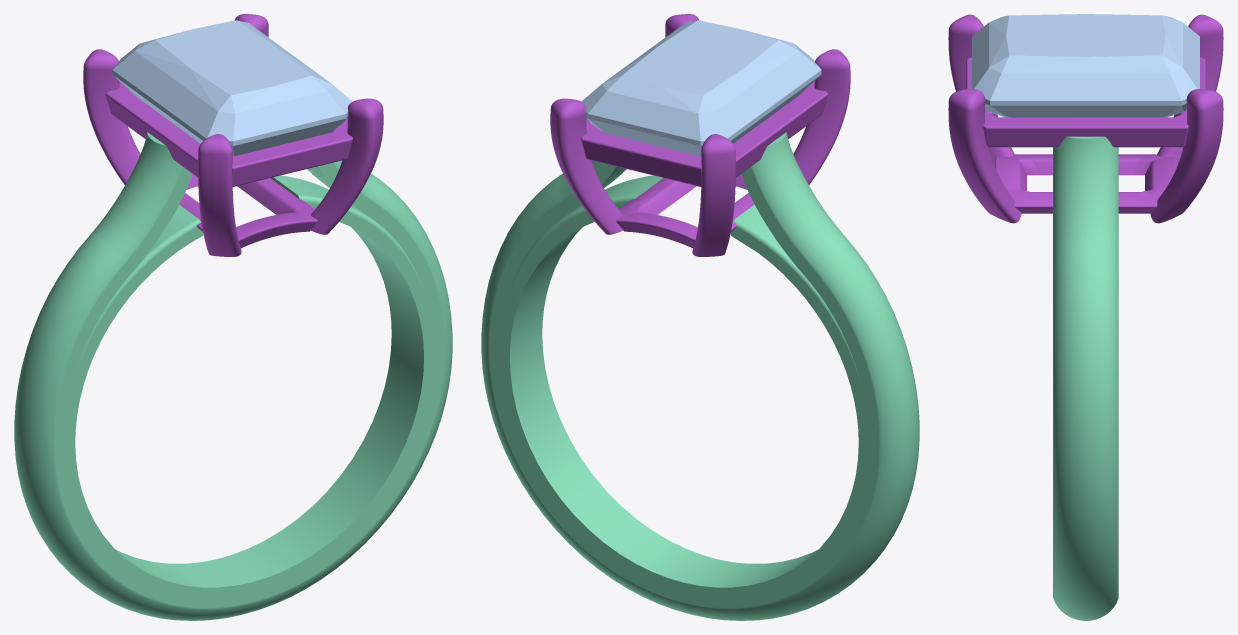
The picture shows the model from 3 angles, left to right: view 1: azimuth 30°, elevation 25°; view 2: azimuth 150°, elevation 25°; view 3: azimuth 270°, elevation 25°; orthographic projection.
Visible parts, largest first — view 1: AES18 anilo esmeralda rectangular talla 5 1-2 para 6 gr.3dm, Diamond_Radiant, Head Prong (×3), Head Rail (×2); view 2: AES18 anilo esmeralda rectangular talla 5 1-2 para 6 gr.3dm, Diamond_Radiant, Head Prong (×3), Head Rail (×2); view 3: AES18 anilo esmeralda rectangular talla 5 1-2 para 6 gr.3dm, Diamond_Radiant, Head Prong (×4), Head Rail (×2).
Part boxes in pixels (x1,y1,x2,y2): AES18 anilo esmeralda rectangular talla 5 1-2 para 6 gr.3dm: (14,132,452,620); Diamond_Radiant: (112,20,352,156); Head Prong (×3): (83,49,383,256); Head Rail (×2): (105,81,352,248); AES18 anilo esmeralda rectangular talla 5 1-2 para 6 gr.3dm: (481,132,919,620); Diamond_Radiant: (581,20,821,156); Head Prong (×3): (550,49,850,256); Head Rail (×2): (581,81,828,248); AES18 anilo esmeralda rectangular talla 5 1-2 para 6 gr.3dm: (1053,136,1118,620); Diamond_Radiant: (972,14,1199,117); Head Prong (×4): (948,14,1223,223); Head Rail (×2): (966,57,1205,213).
Bounding box in the file's own units: 2.38 × 2.94 × 1.3.
